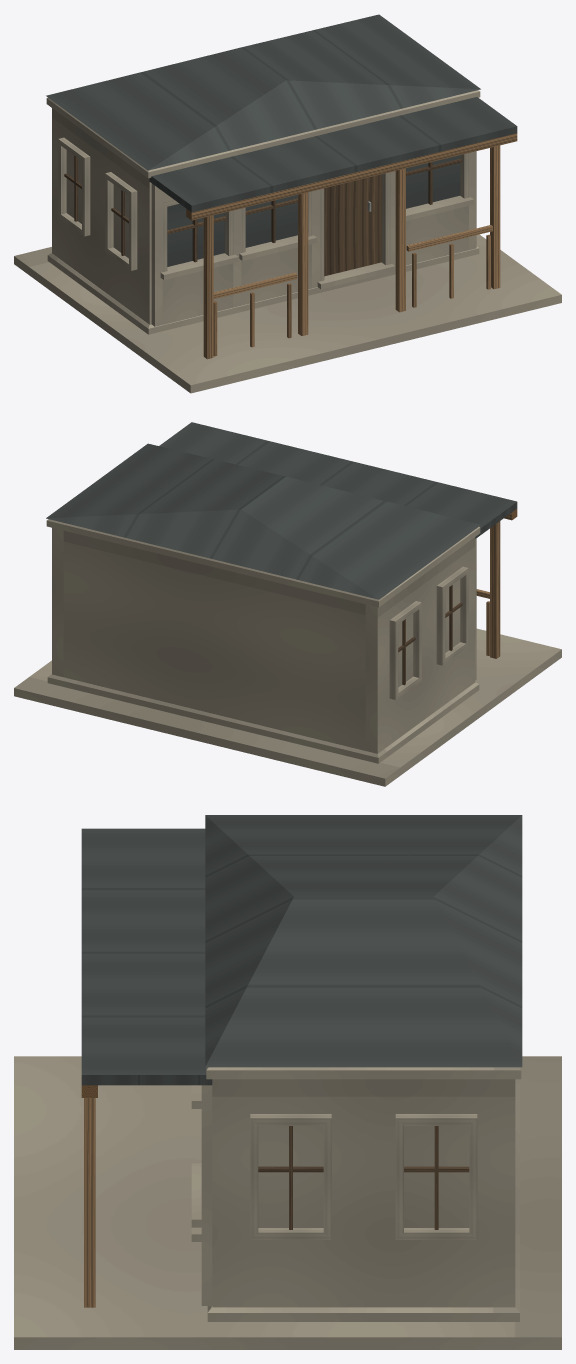
3 views of the same model, one above another, from view 1: azimuth 30°, elevation 25°; view 2: azimuth 150°, elevation 25°; view 3: azimuth 270°, elevation 25° (orthographic). The views are drawn at different scales.
Parts seen in each view (by area): view 1: the-valley; view 2: the-valley; view 3: the-valley.
Part boxes in pixels (left/top/right/bottom): the-valley: left=14, top=14, right=561, bottom=393; the-valley: left=14, top=422, right=561, bottom=786; the-valley: left=14, top=815, right=561, bottom=1349.
Bounding box in the file's own units: 5.7 × 2.96 × 4.7.
1 material, 1 textured.
